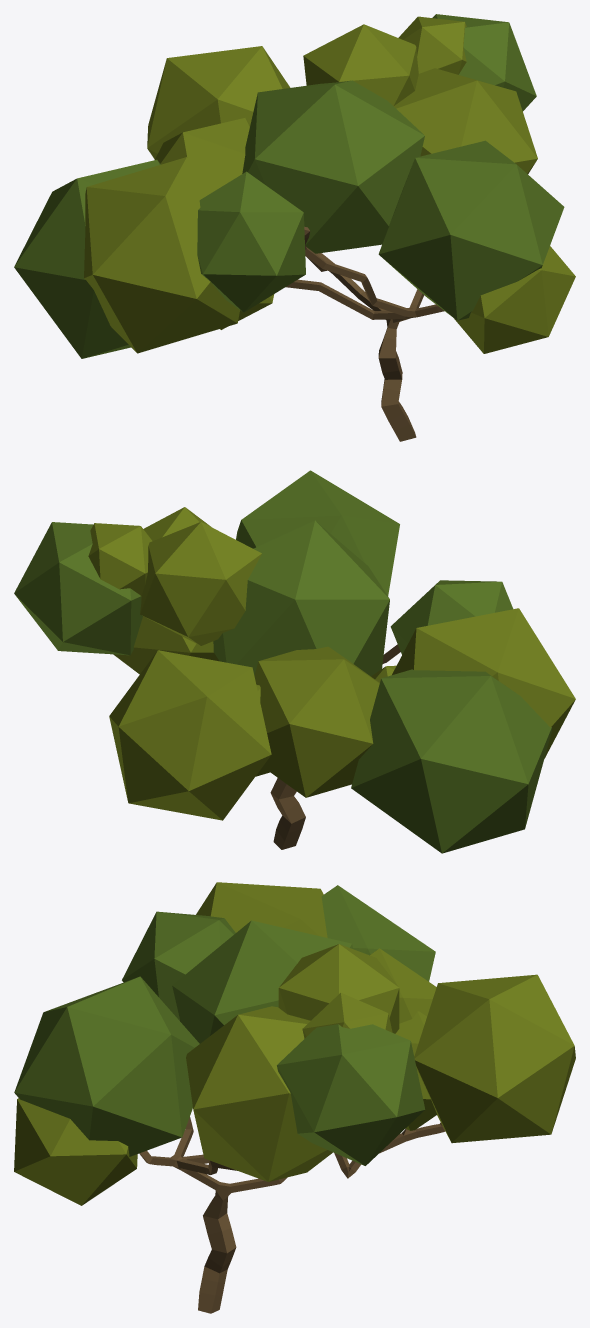
File: Tree.fbx
The picture shows the model from 3 angles, top to bottom: view 1: azimuth 30°, elevation 25°; view 2: azimuth 150°, elevation 25°; view 3: azimuth 270°, elevation 25°; orthographic projection. The views are drawn at different scales.
Parts seen in each view (by area): view 1: Tree1; view 2: Tree1; view 3: Tree1.
Boxes of the visible parts, x1=… form: Tree1: x1=14, y1=14, x2=575, y2=441; Tree1: x1=14, y1=470, x2=575, y2=853; Tree1: x1=14, y1=882, x2=575, y2=1313.
Bounding box in the file's own units: 2722 × 1893 × 2555.
